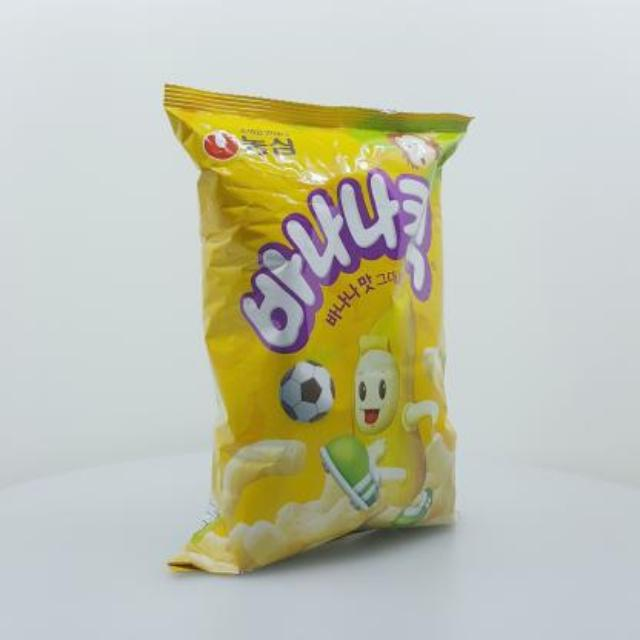snack_bag: (148, 70, 488, 590)
